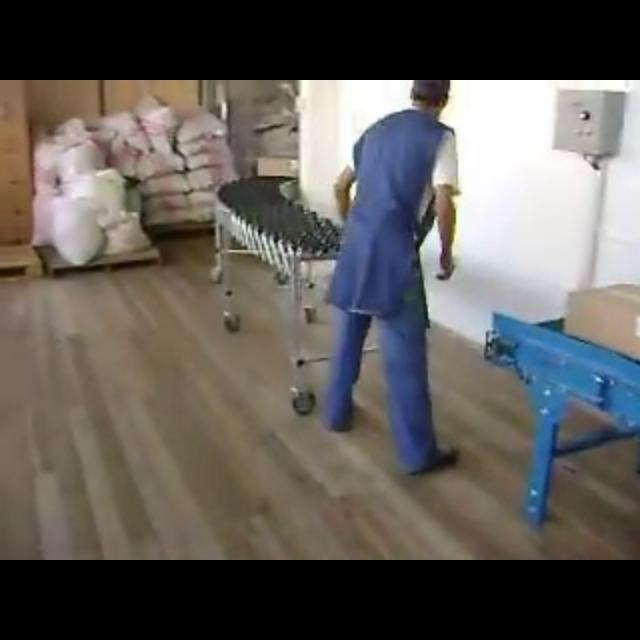Box: (561, 277, 640, 362), (254, 152, 302, 178)
